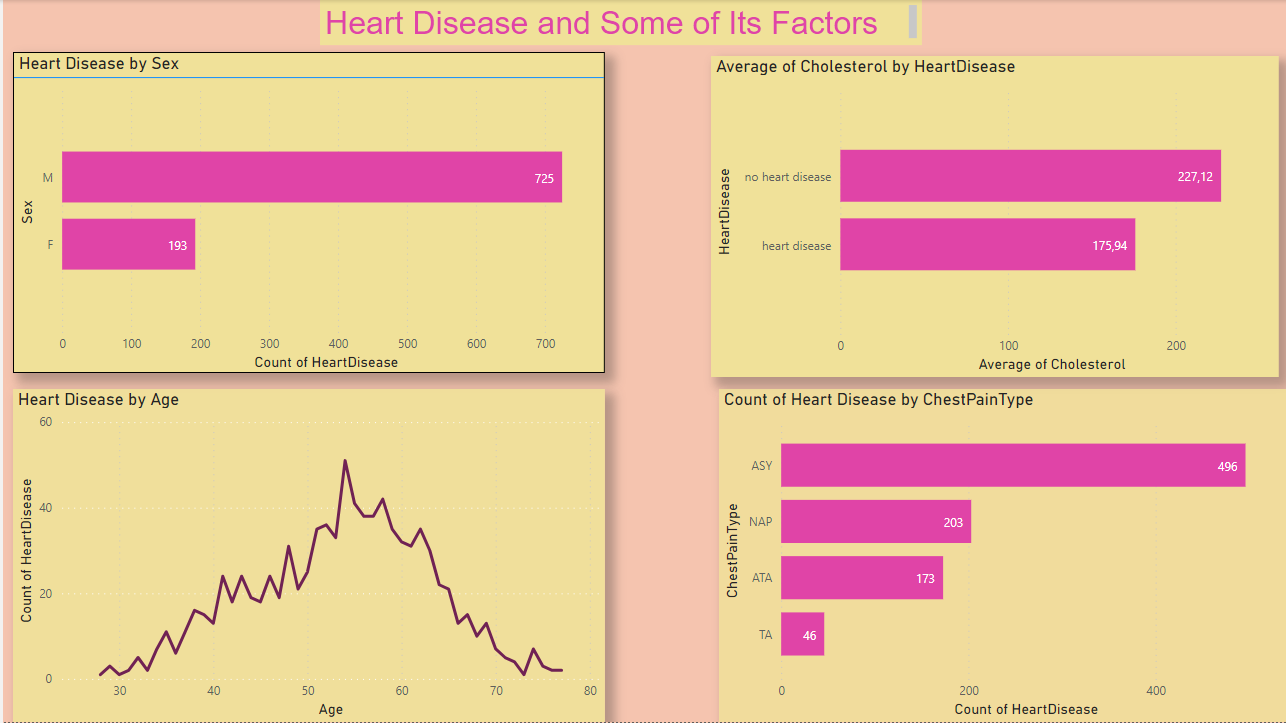

Layout of this report page (visuals, bound fields, positions):
{"tool":"powerbi","page":{"name":"Page 1","canvas":[1280,720],"ordinal":0},"visuals":[{"type":"clusteredBarChart","title":"Heart Disease by Sex","fields":{"Category":["heart.Sex"],"Y":["CountNonNull(heart.HeartDisease)"]},"box":[10,51.8,590.2,320],"z":0},{"type":"lineChart","title":"Heart Disease by Age","fields":{"Category":["heart.Age"],"Y":["CountNonNull(heart.HeartDisease)"]},"box":[10,387.8,590.2,332],"z":1},{"type":"clusteredBarChart","fields":{"Category":["heart.HeartDisease"],"Y":["Avg(heart.Cholesterol)"]},"box":[705.8,55.8,566.2,320],"z":2},{"type":"clusteredBarChart","title":"Count of Heart Disease by ChestPainType","fields":{"Category":["heart.ChestPainType"],"Y":["CountNonNull(heart.HeartDisease)"]},"box":[713.8,387.8,566.2,332],"z":3},{"type":"textbox","box":[316,0,600.1,44.9],"z":4}]}

Visuals, with their boxes in screenshot pixels (x1, y1, x2, y2), scaled from the page's 1280x720 canvas onto the 1286x723 screenshot:
"Heart Disease by Sex" clusteredBarChart: 10, 52, 603, 373
"Heart Disease by Age" lineChart: 10, 389, 603, 722
clusteredBarChart - heart.HeartDisease x Avg(heart.Cholesterol): 709, 56, 1278, 377
"Count of Heart Disease by ChestPainType" clusteredBarChart: 717, 389, 1285, 722
textbox: 317, 0, 920, 45
